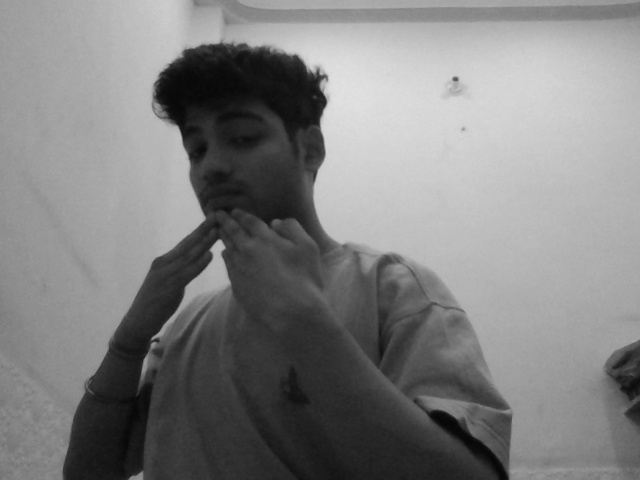Thanks: (134, 174, 352, 323)
